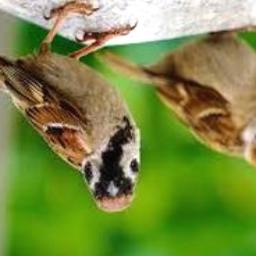Sparrow: (0, 2, 139, 213), (96, 25, 256, 175)
